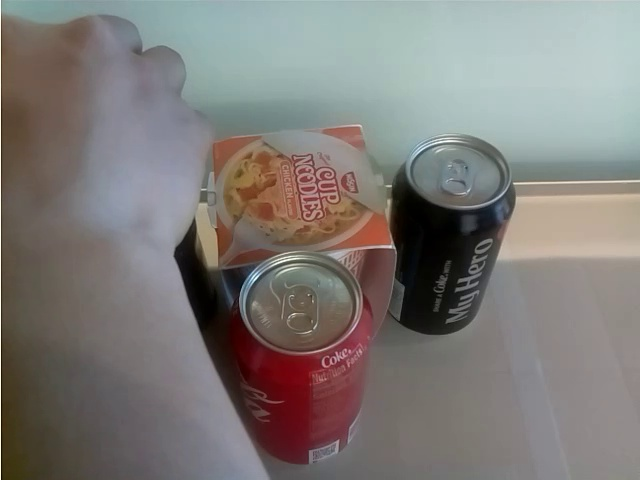cocacola: (225, 246, 376, 466), (391, 131, 517, 334)
hand: (1, 7, 220, 256)
noodles: (208, 123, 397, 326)
